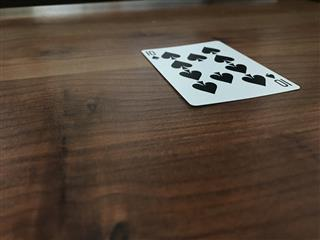TenOfSpades: (140, 38, 300, 106)
